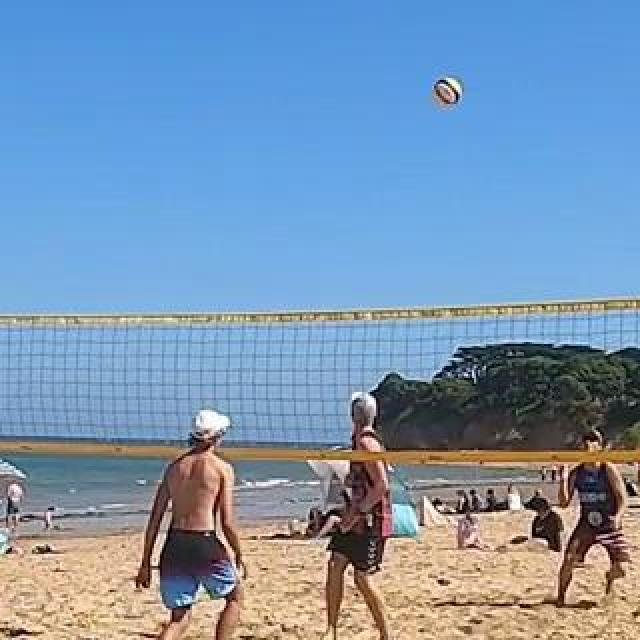volleyball: (434, 80, 462, 106)
